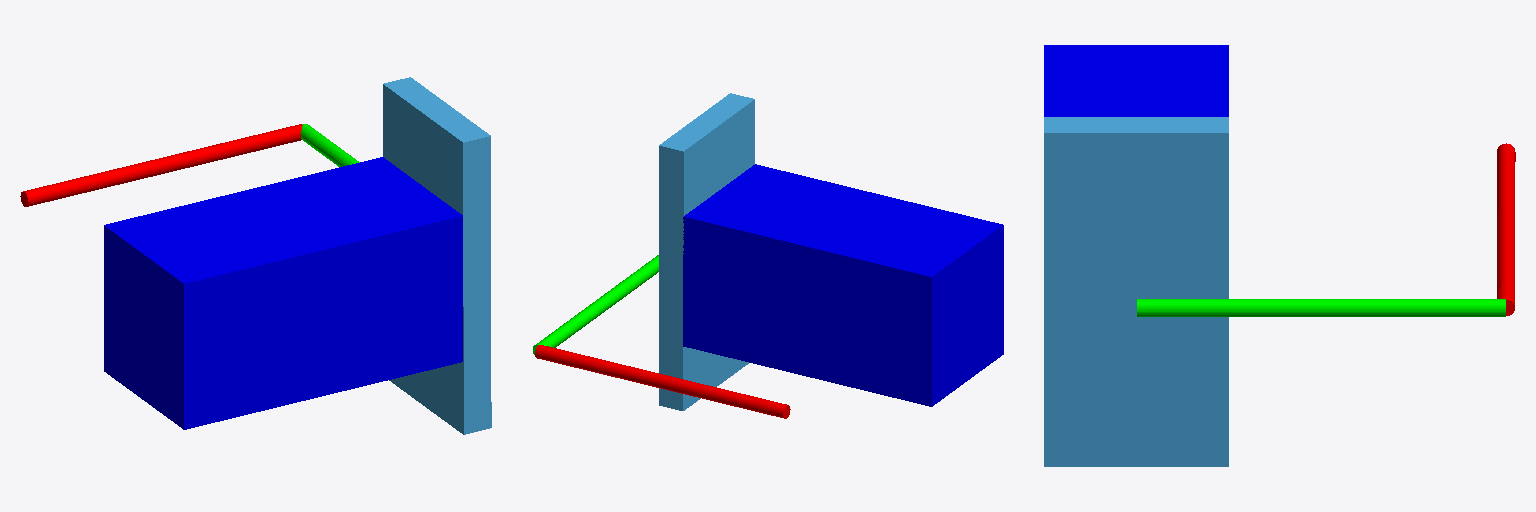
URDF robot description (simple_3dof_arm):
<?xml version="1.0"?>
<robot name="simple_3dof_arm">
  <!-- BASE -->
  <link name="base_link">
    <visual>
      <geometry>
        <box size="0.2 0.1 0.1" />
      </geometry>
      <material name="blue">
        <color rgba="0 0 1 1" />
      </material>
    </visual>
    <inertial>
      <origin xyz="0 0 0.25" rpy="0 0 0" />
      <mass value="1.0" />
      <inertia ixx="0.01" ixy="0.0" ixz="0.0" iyy="0.01" iyz="0.0" izz="0.01" />
    </inertial>
  </link>

  <!-- Joint 1 -->
  <joint name="joint1" type="revolute">
    <parent link="base_link" />
    <child link="link1" />
    <origin xyz="0.10 0 0" rpy="0 1.57 0" />
    <axis xyz="0 0 1" />
    <limit lower="-1.57" upper="1.57" effort="10" velocity="1" />
  </joint>

  <!-- SHOULDER -->
  <link name="link1">
    <visual>
    <origin xyz="0 0 0.01" rpy="0 0 0" />
    <geometry>
      <box size="0.2 0.1 0.02" />
    </geometry>
    </visual>
    <inertial>
      <origin xyz="0 0 0.25" rpy="0 0 0" />
      <mass value="1.0" />
      <inertia ixx="0.01" ixy="0.0" ixz="0.0" iyy="0.01" iyz="0.0" izz="0.01" />
    </inertial>
  </link>

  <!-- Joint 2 -->
  <joint name="joint2" type="revolute">
    <parent link="link1" />
    <child link="link2" />
    <origin xyz="0 0 0.03" rpy="-1.57 0 1.57" />
    <axis xyz="0 0 1" />
    <limit lower="-1.57" upper="1.57" effort="10" velocity="1" />
  </joint>

  <!-- FIRST LINK -->
  <link name="link2">
    <visual>
      <origin xyz="0.1 0 0" rpy="0 1.57 0" />
      <geometry>
        <cylinder length="0.2" radius="0.005" />
      </geometry>
      <material name="green">
        <color rgba="0 1 0 1" />
      </material>
    </visual>
    <inertial>
      <origin xyz="0 0 0.1" rpy="0 0 0" />
      <mass value="1.0" />
      <inertia ixx="0.01" ixy="0.0" ixz="0.0" iyy="0.01" iyz="0.0" izz="0.01" />
    </inertial>
  </link>

  <!-- Joint 2 -->
  <joint name="joint3" type="revolute">
    <parent link="link2" />
    <child link="link3" />
    <origin xyz="0.2 0 0" rpy="0 0 1.57" />
    <axis xyz="0 0 1" />
    <limit lower="-1.57" upper="1.57" effort="10" velocity="1" />
  </joint>

  <!-- SECOND LINK -->
  <link name="link3">
    <visual>
      <origin xyz="0.1 0 0" rpy="0 1.57 0" />
      <geometry>
        <cylinder length="0.2" radius="0.005" />
      </geometry>
      <material name="red">
        <color rgba="1 0 0 1" />
      </material>
    </visual>
    <inertial>
      <origin xyz="0 0 0.1" rpy="0 0 0" />
      <mass value="1.0" />
      <inertia ixx="0.01" ixy="0.0" ixz="0.0" iyy="0.01" iyz="0.0" izz="0.01" />
    </inertial>
  </link>
</robot>

--- Facts derived from the render (not from the file) ---
Views: 3 orthographic renders of the robot side by side, from view 1: azimuth 30°, elevation 25°; view 2: azimuth 150°, elevation 25°; view 3: azimuth 270°, elevation 25°.
Model simple_3dof_arm with 4 links and 3 joints (3 revolute), rooted at base_link, posed all joints at 0.
Links seen in each view (by area): view 1: base_link, link1, link3, link2; view 2: base_link, link1, link3, link2; view 3: link1, base_link, link2, link3.
Link boxes in pixels (left/top/right/bottom): base_link: left=104, top=157, right=462, bottom=429; link1: left=383, top=77, right=491, bottom=434; link3: left=20, top=124, right=302, bottom=206; link2: left=301, top=124, right=359, bottom=166; base_link: left=683, top=164, right=1003, bottom=406; link1: left=659, top=93, right=754, bottom=410; link3: left=535, top=345, right=790, bottom=418; link2: left=533, top=255, right=658, bottom=354; link1: left=1044, top=117, right=1228, bottom=466; base_link: left=1044, top=45, right=1228, bottom=116; link2: left=1137, top=299, right=1505, bottom=316; link3: left=1497, top=143, right=1515, bottom=315.
Bounding box of the posed robot: 0.235 × 0.2552 × 0.2 m (x, y, z).
Geometry: primitives only (box / cylinder / sphere), no mesh files.